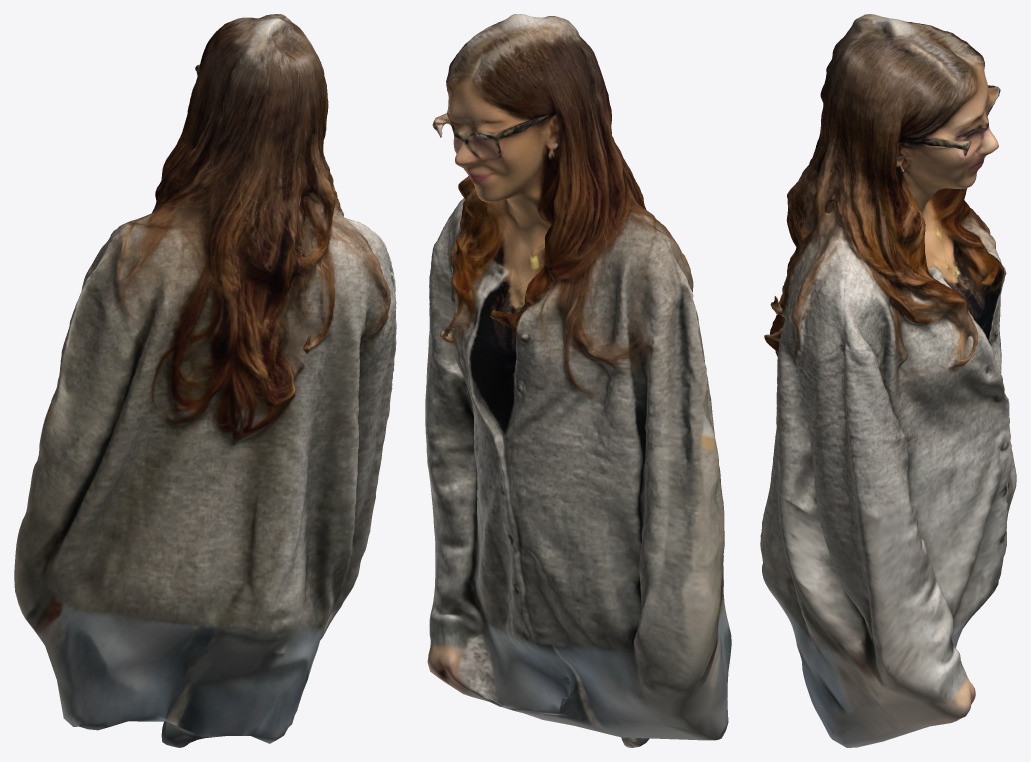
File: 3DModel.obj
3 views of the same model, side by side, from view 1: azimuth 30°, elevation 25°; view 2: azimuth 150°, elevation 25°; view 3: azimuth 270°, elevation 25° (orthographic). The views are drawn at different scales.
Visible parts, largest first — view 1: 3DModel; view 2: 3DModel; view 3: 3DModel.
Boxes of the visible parts, x1,y1,x2,y2 form: 3DModel: (14,14,396,747); 3DModel: (425,14,731,747); 3DModel: (760,14,1016,747).
Size of the model in its own units: 0.7214 by 1.49 by 0.4661.
Materials: 1 (1 with a texture image).
